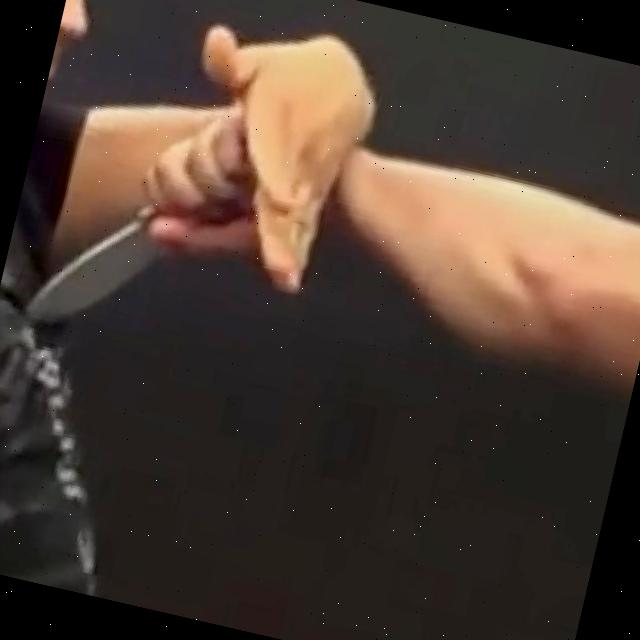suspicion: (12, 65, 640, 465), (19, 204, 160, 348)
